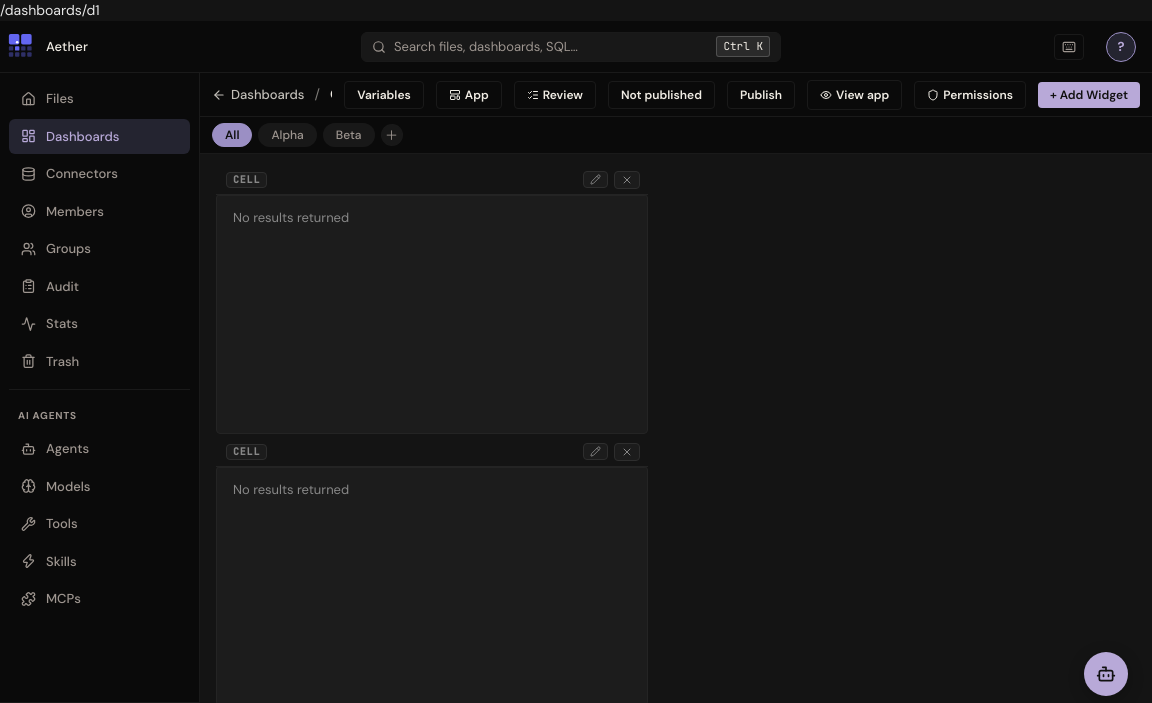
Scenario: DashboardEditorPage tabs › the + chip opens the app settings panel at the Tabs section
The image size is (1152, 703).
Step 1. Click the button named "Add tab" → {"x": 392, "y": 135}, box [380, 124, 402, 146]
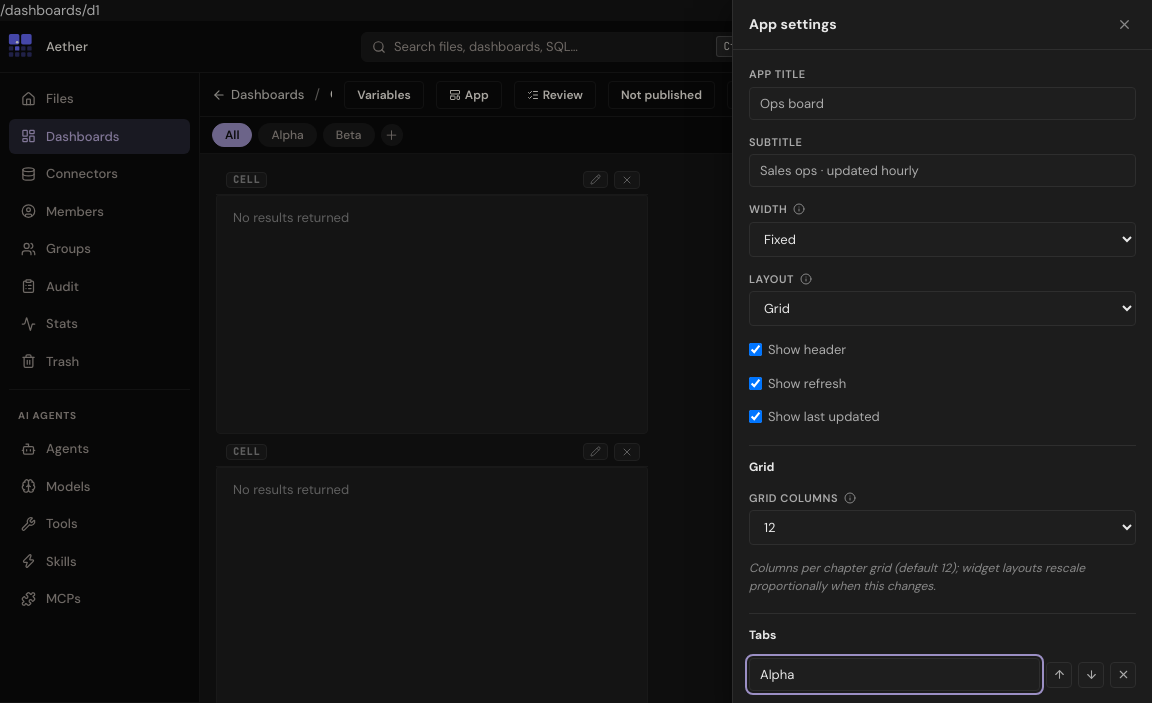
Now the heading "Tabs" is shown, box [749, 613, 1136, 644]
Now the field named "Tab 1 title" holds "Alpha", box [749, 658, 1040, 691]
